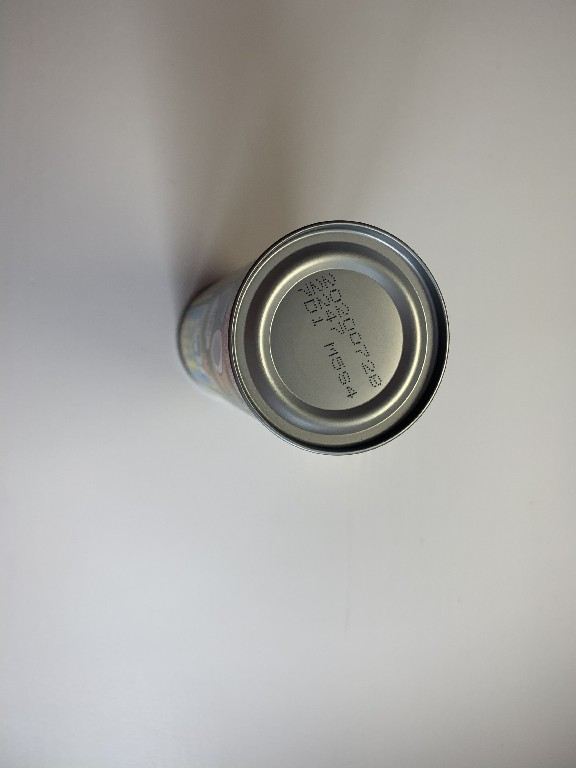can: (170, 218, 453, 461)
